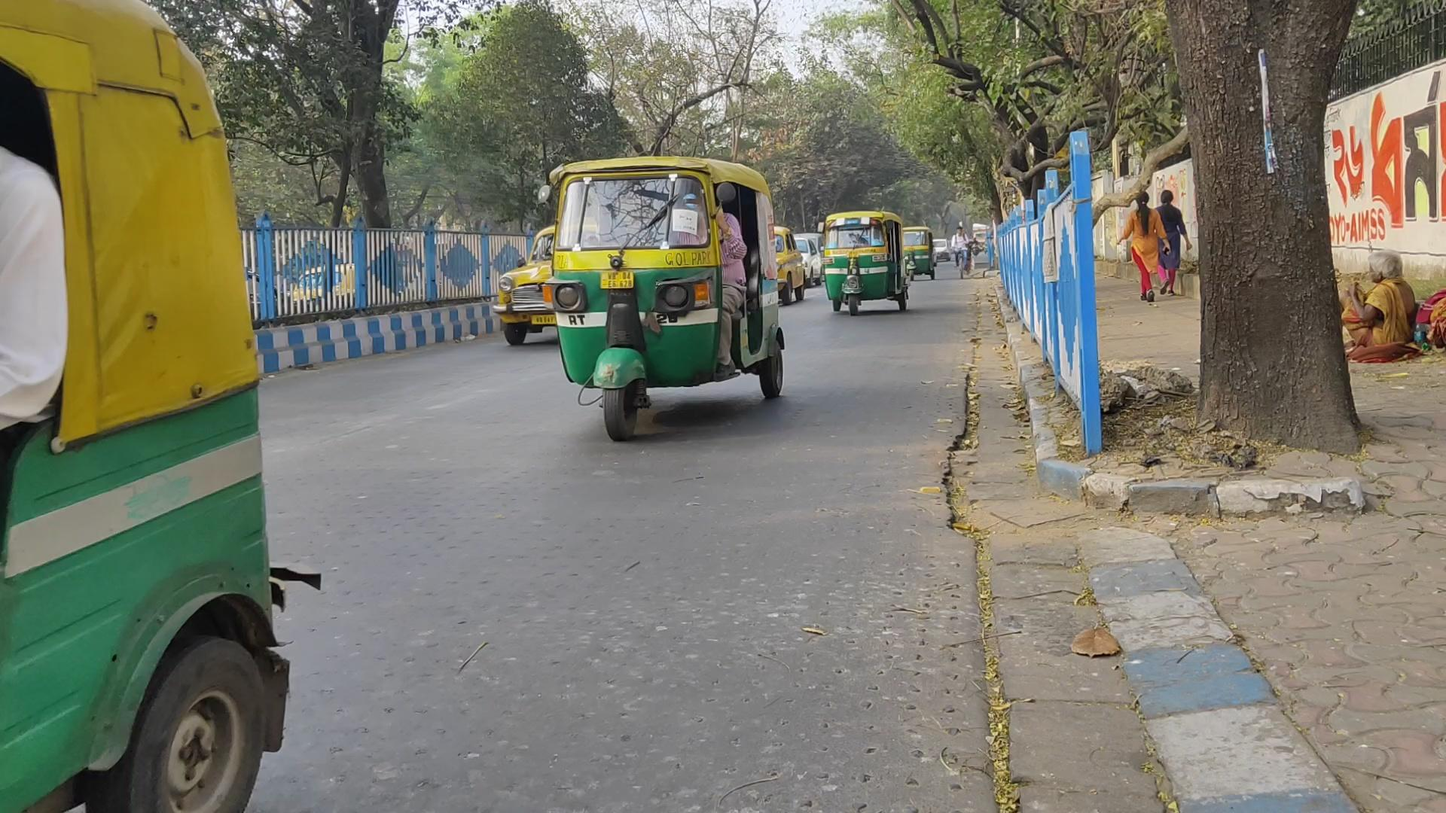Auto: (550, 157, 786, 440), (818, 210, 910, 317), (902, 225, 936, 282)
bike: (951, 227, 971, 280)
car: (494, 221, 613, 346), (771, 226, 805, 304), (794, 236, 823, 289), (933, 237, 952, 263)
